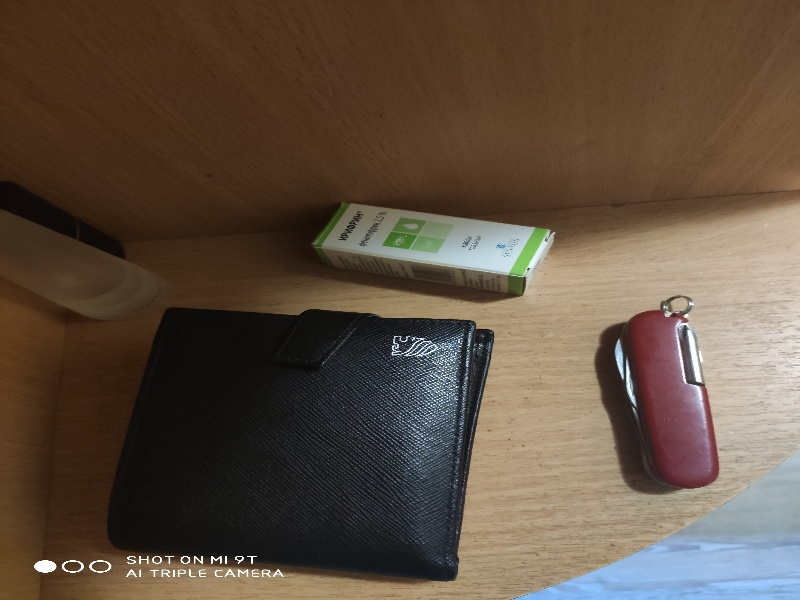ifrin: (308, 181, 565, 295)
knife: (605, 291, 718, 511)
wallet: (111, 308, 495, 578)
